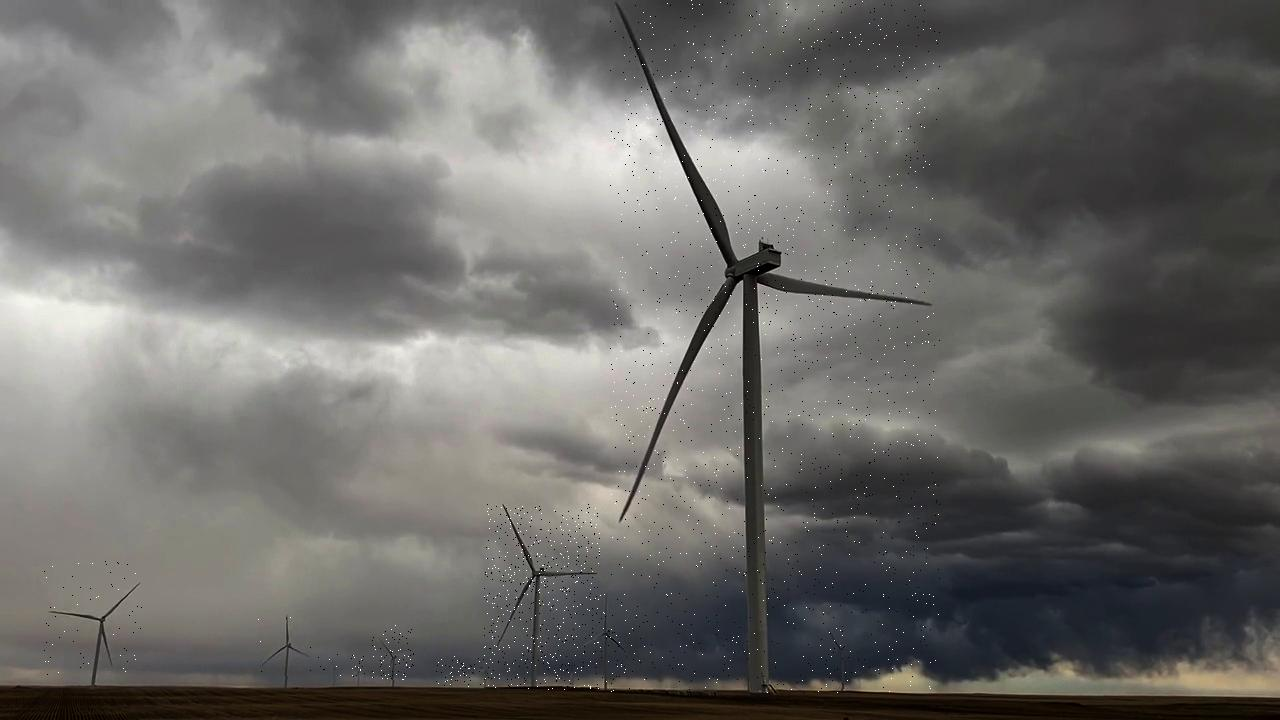turbine: (611, 0, 941, 693), (485, 505, 601, 691), (44, 561, 142, 675), (581, 592, 626, 687), (259, 610, 314, 677), (814, 611, 861, 689), (373, 625, 415, 680), (461, 654, 501, 687), (317, 650, 346, 679), (436, 656, 461, 687), (345, 653, 369, 677), (561, 654, 581, 682)
